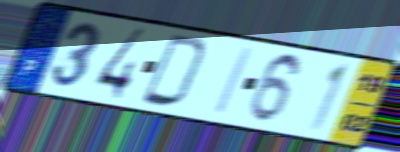1: (307, 61, 357, 136)
3: (48, 20, 103, 92)
4: (92, 25, 148, 103)
6: (246, 51, 307, 125)
D: (138, 31, 210, 110)
I: (210, 46, 257, 118)
